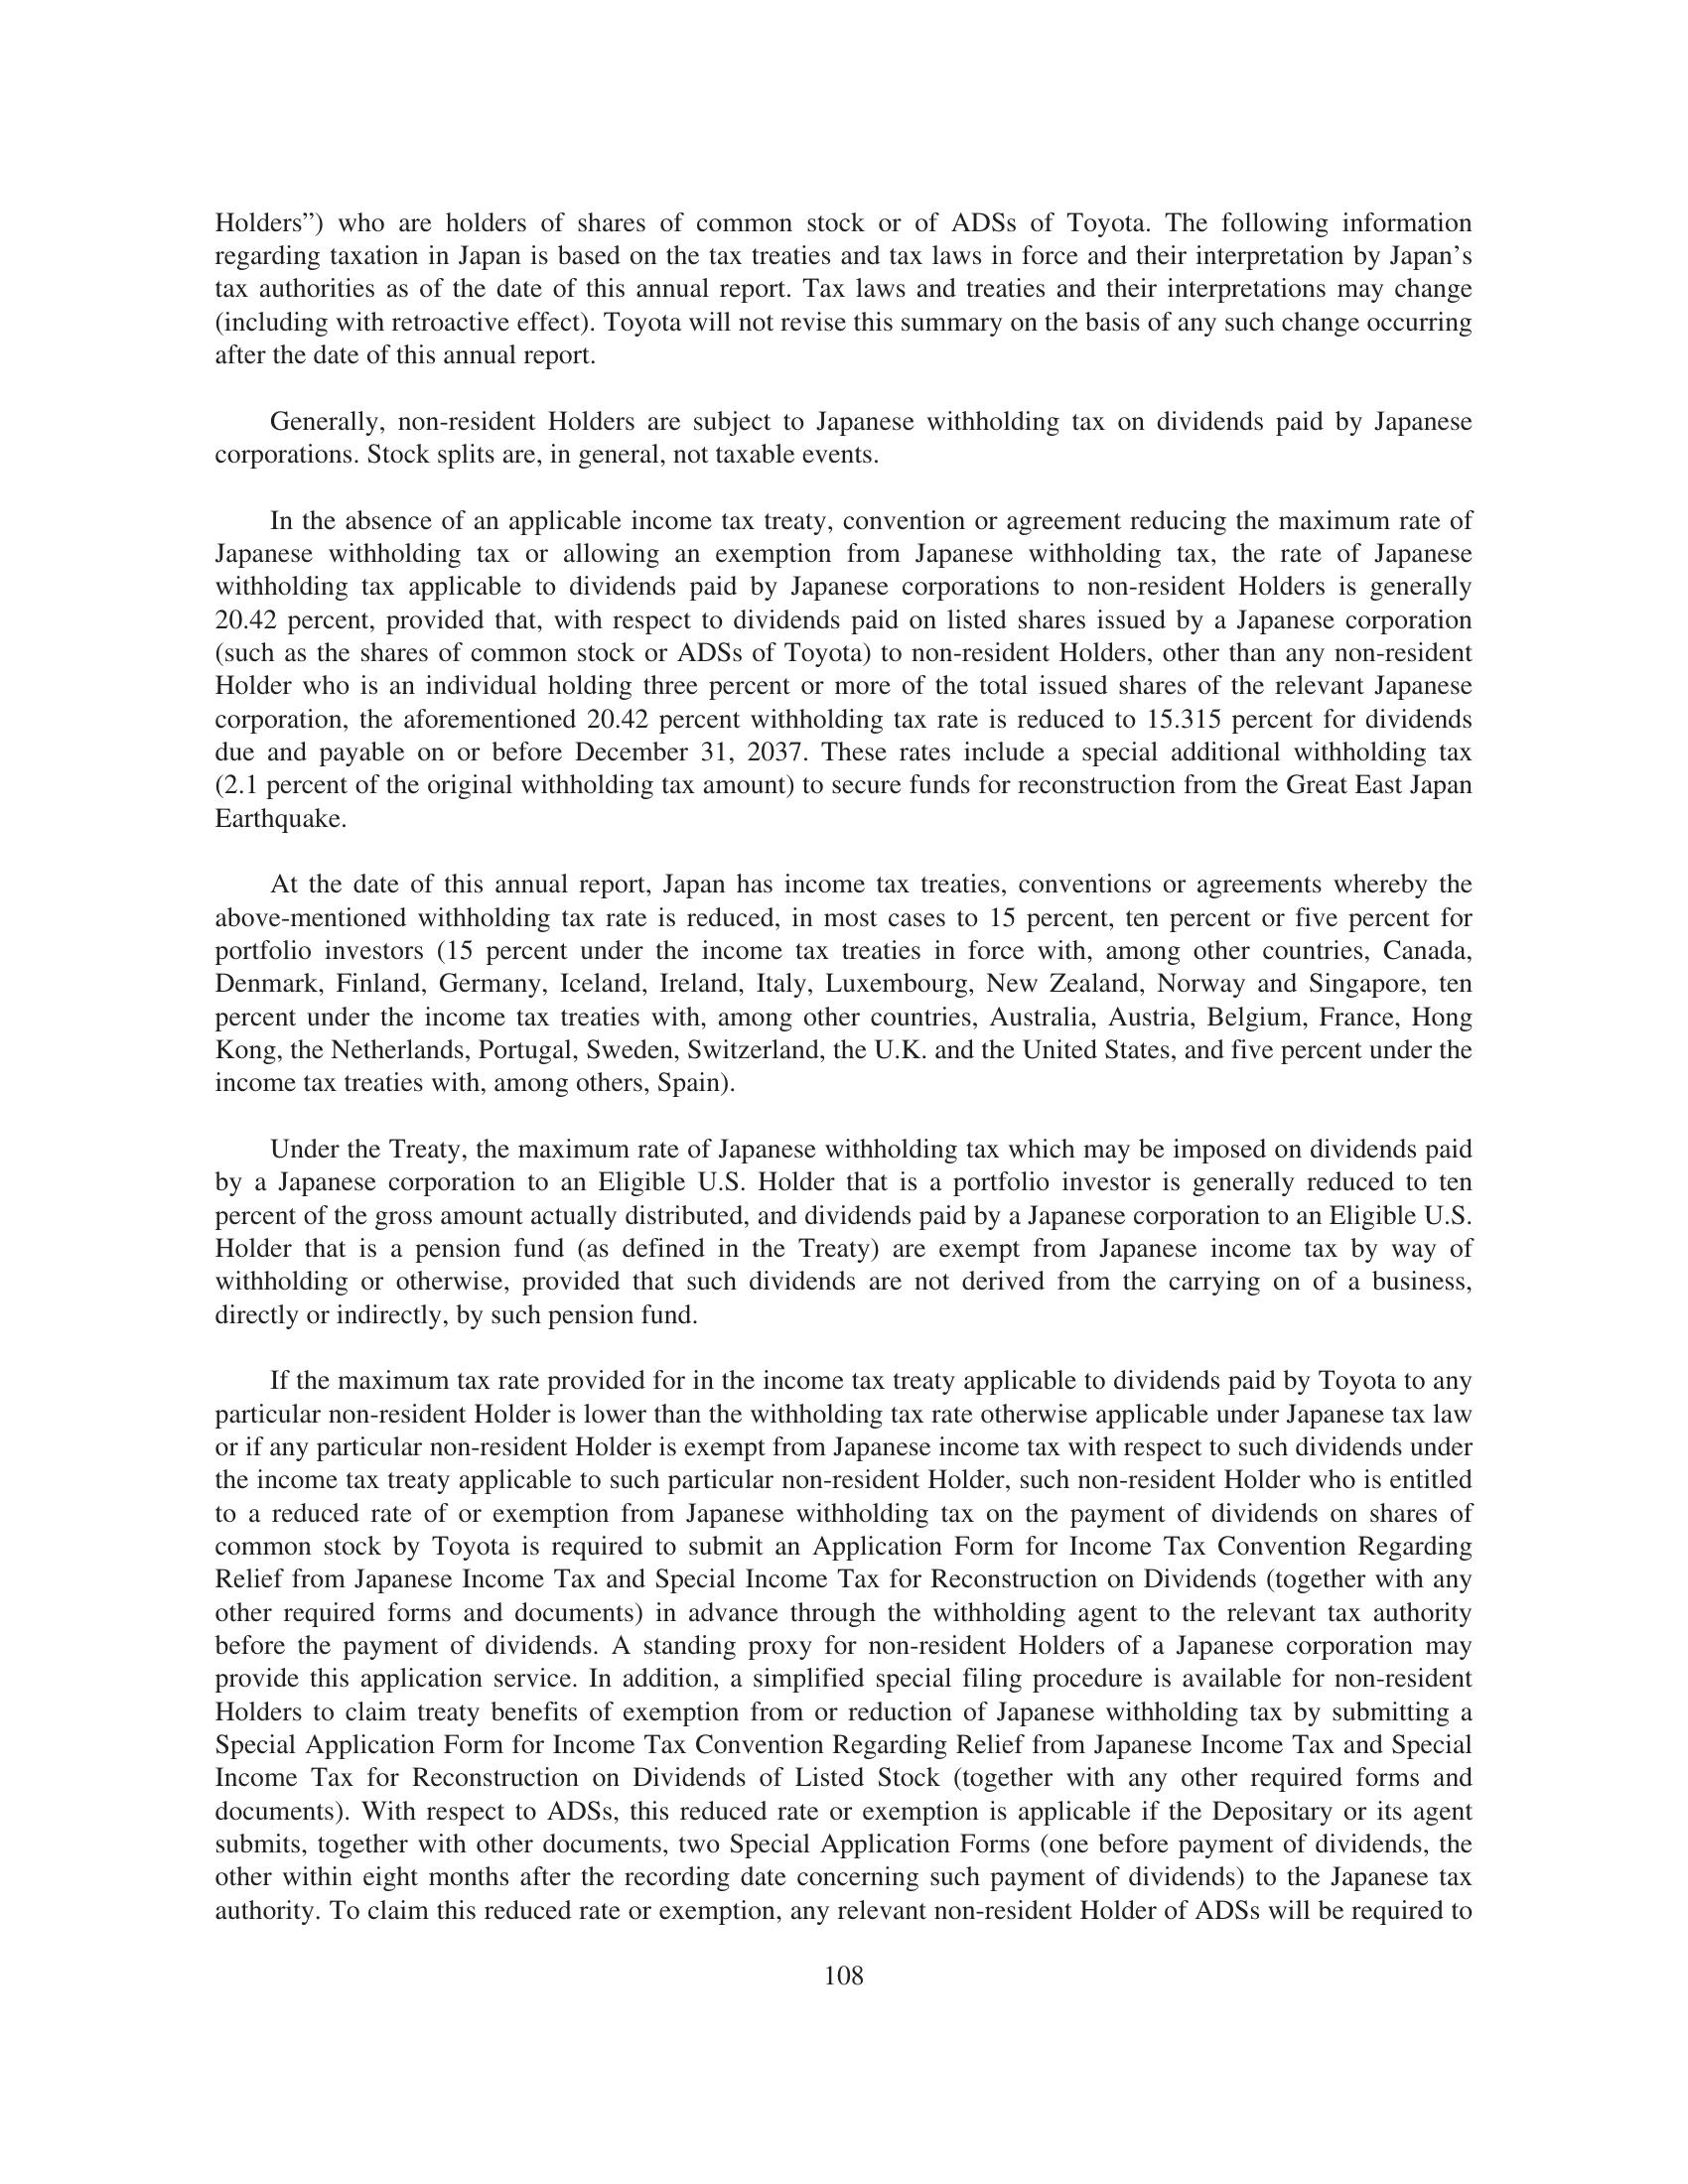Footer: (0, 1962, 1688, 2184)
Header: (0, 0, 1688, 191)
